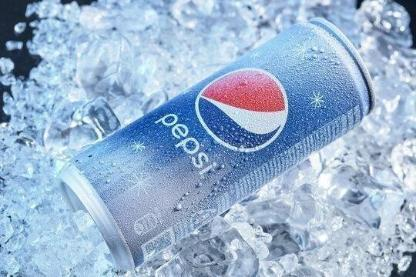Can: (49, 14, 377, 272)
